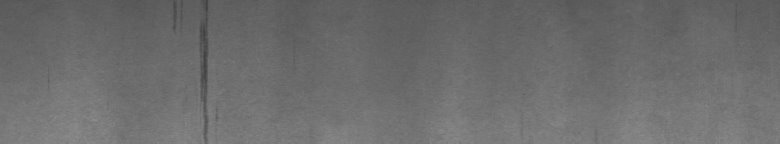hd: (169, 4, 218, 136)
